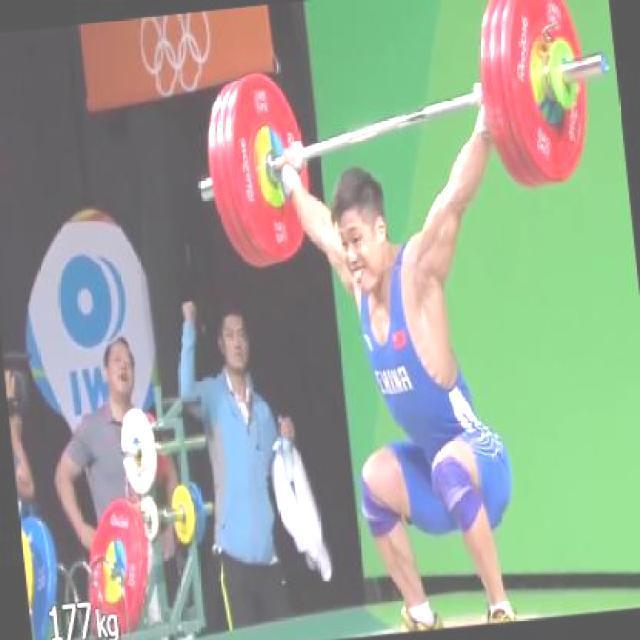non-fight: (274, 121, 544, 638)
